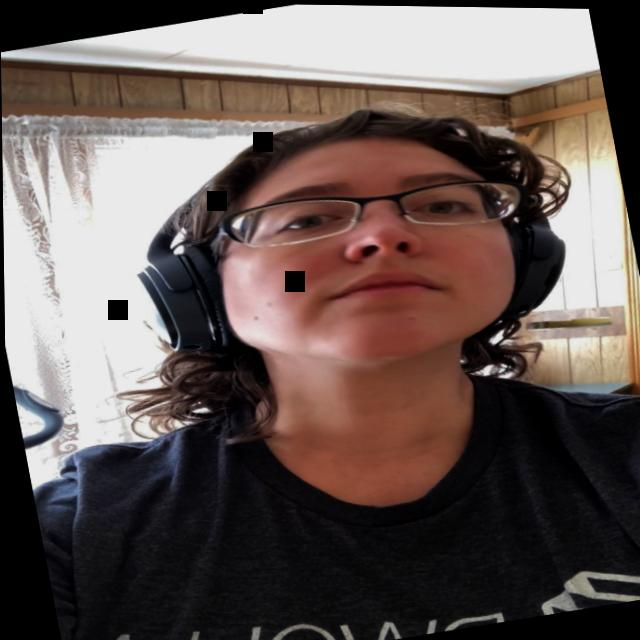NO-Mask: (194, 110, 541, 390)
